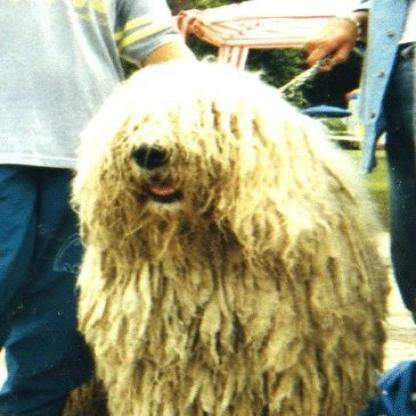komondor: (58, 50, 401, 413)
